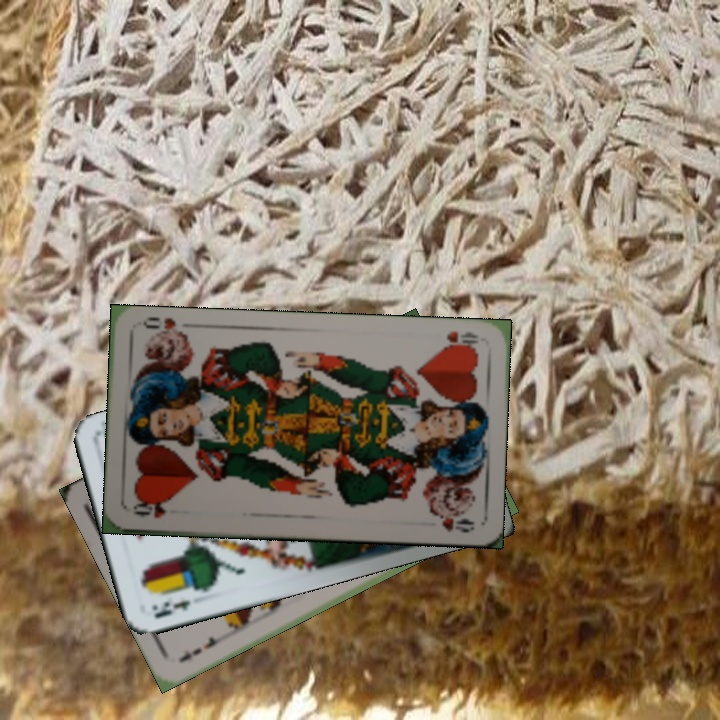E7: (175, 630, 229, 666)
EK: (150, 596, 193, 621)
HO: (436, 327, 481, 353), (129, 499, 168, 521)
